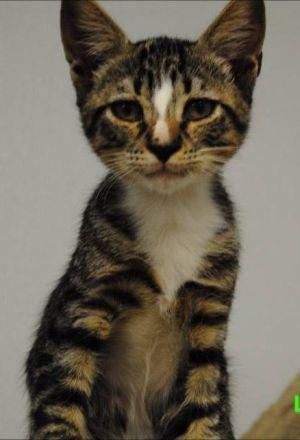bengal: (40, 1, 276, 209)
